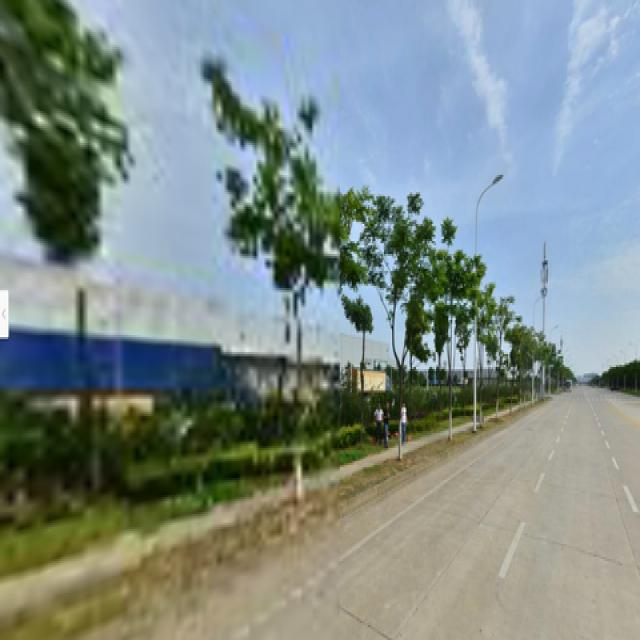koel: (369, 188, 434, 431)
